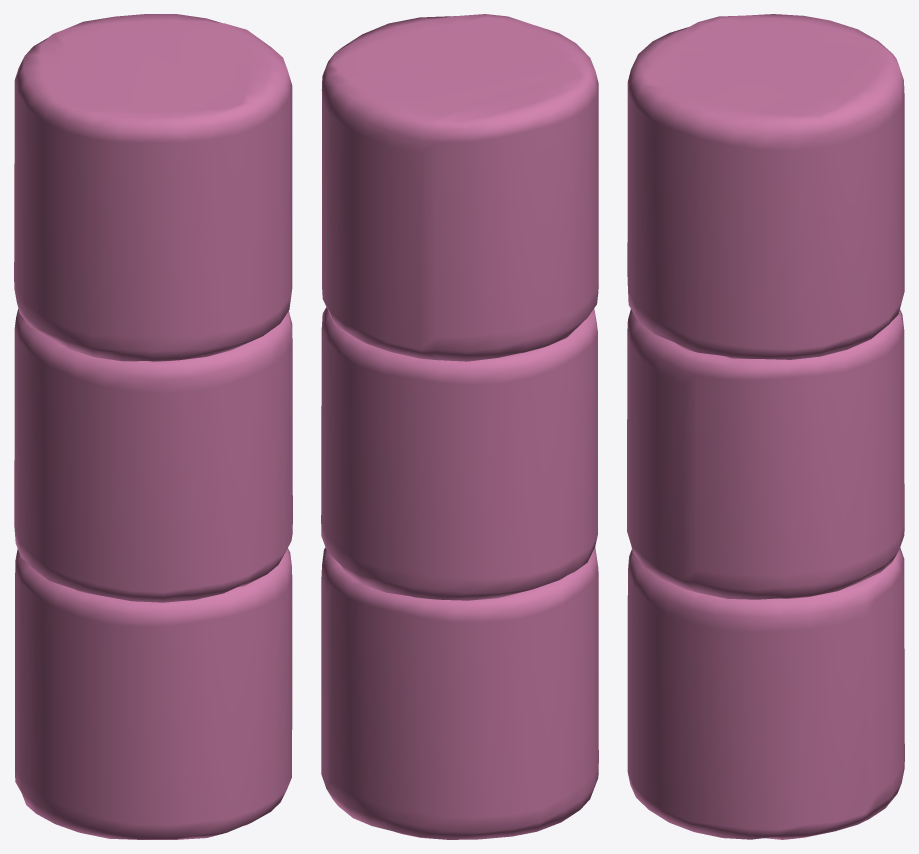
Rendered from Pillar_Round_01_x3_Lod0.fbx.
3 renders of one model, left to right at view 1: azimuth 30°, elevation 25°; view 2: azimuth 150°, elevation 25°; view 3: azimuth 270°, elevation 25°, orthographic.
Parts seen in each view (by area): view 1: Pillar_Round_01_x3_Lod0; view 2: Pillar_Round_01_x3_Lod0; view 3: Pillar_Round_01_x3_Lod0.
Part boxes in pixels (<box>): Pillar_Round_01_x3_Lod0: <box>14,14,292,839</box>; Pillar_Round_01_x3_Lod0: <box>321,14,598,839</box>; Pillar_Round_01_x3_Lod0: <box>627,14,904,839</box>.
Size of the model in its own units: 157 by 450 by 158.
